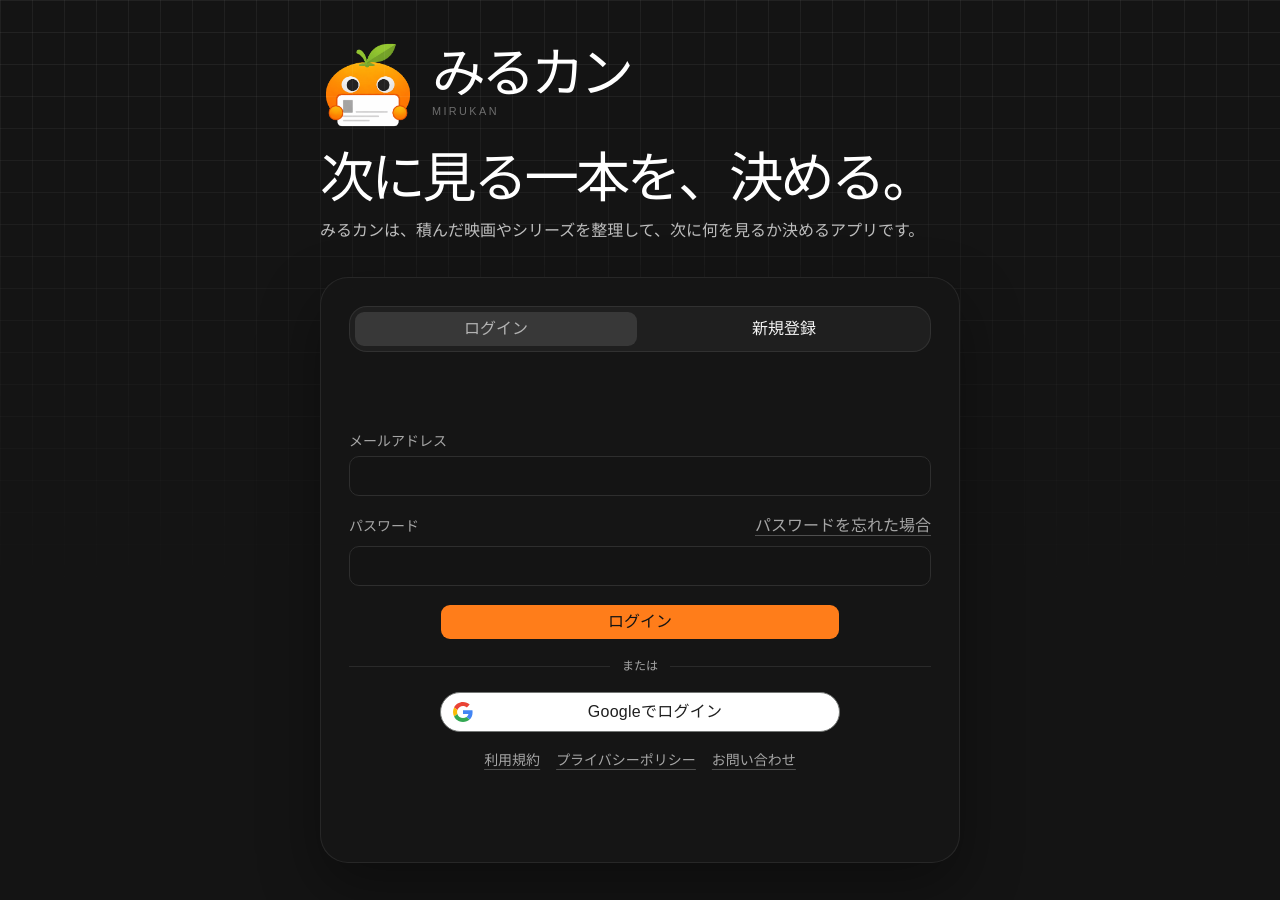
Test: LoginPage › 認証失敗時はエラーメッセージを表示して再入力できる
Type "akari@example.com" into the field labelled "メールアドレス".
click(640, 476); type("akari@example.com")  # box x1=349 y1=456 x2=931 y2=496
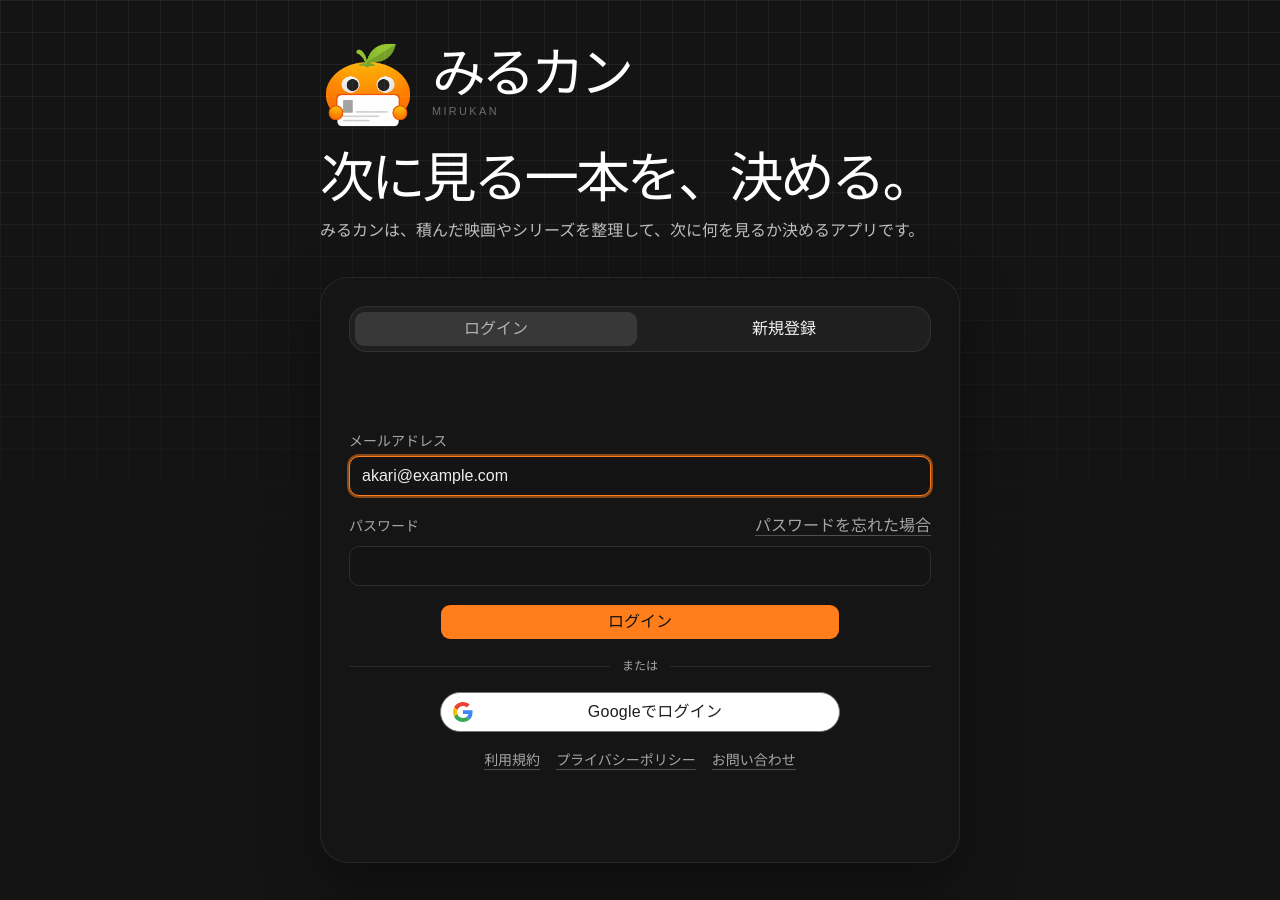
Type "password123" into the password field labelled "パスワード".
click(640, 566); type("password123")  # box x1=349 y1=546 x2=931 y2=586
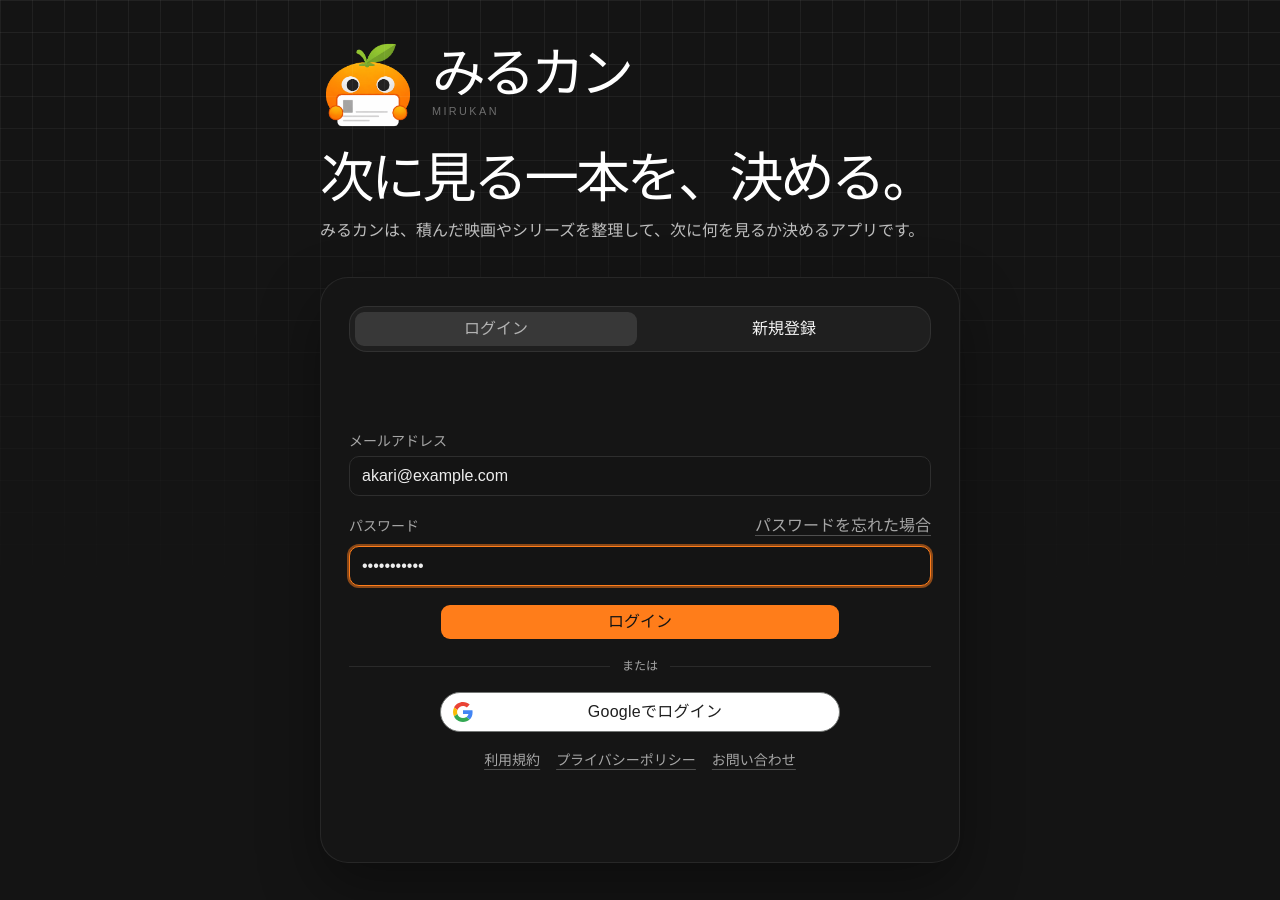
Click the button "ログイン" below "メールアドレス".
click(640, 622)  # box x1=440 y1=604 x2=840 y2=640
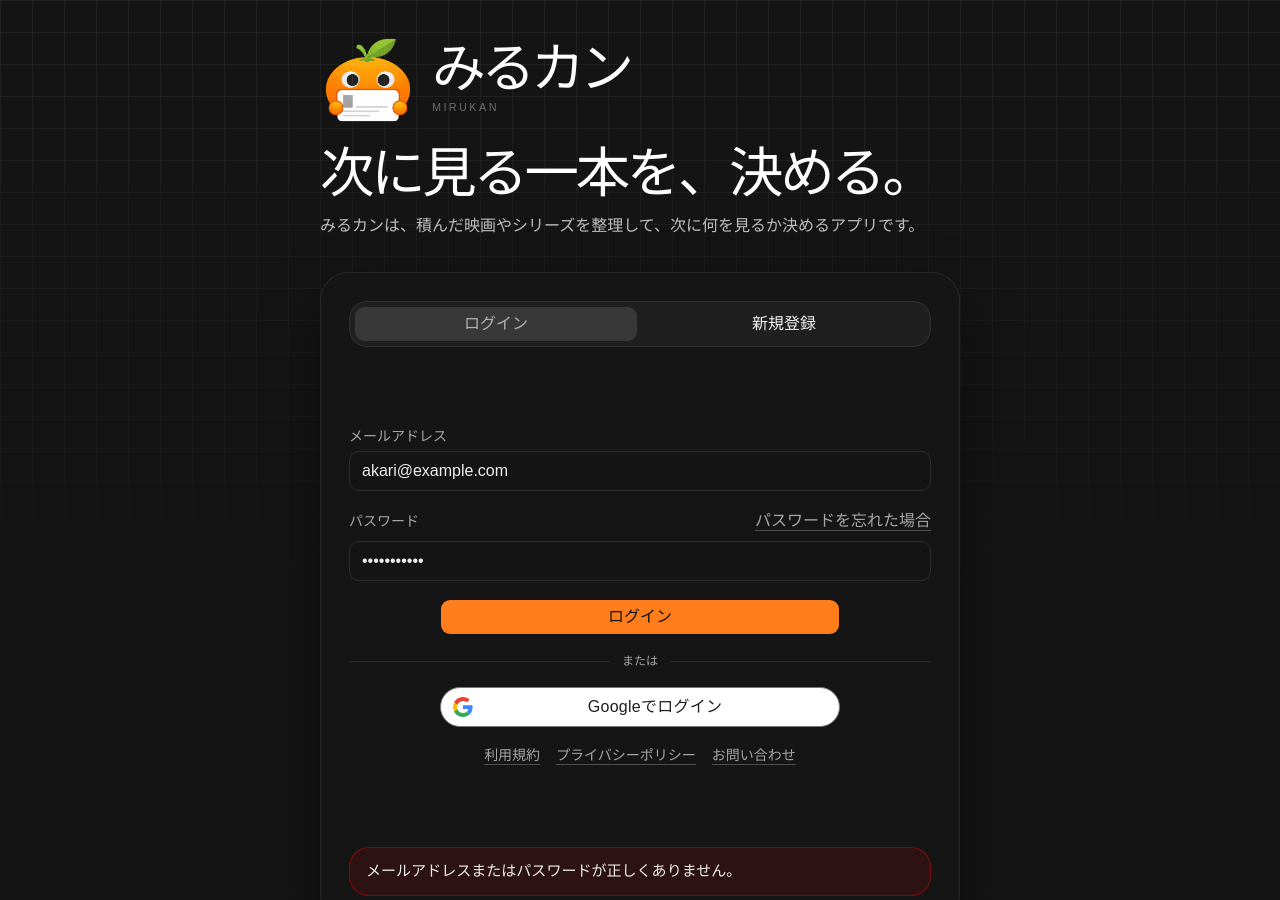
Expected: the field labelled "メールアドレス" is enabled, x1=349 y1=451 x2=931 y2=491
Expected: the text "メールアドレスまたはパスワードが正しくありません。" is shown, x1=349 y1=847 x2=931 y2=896
